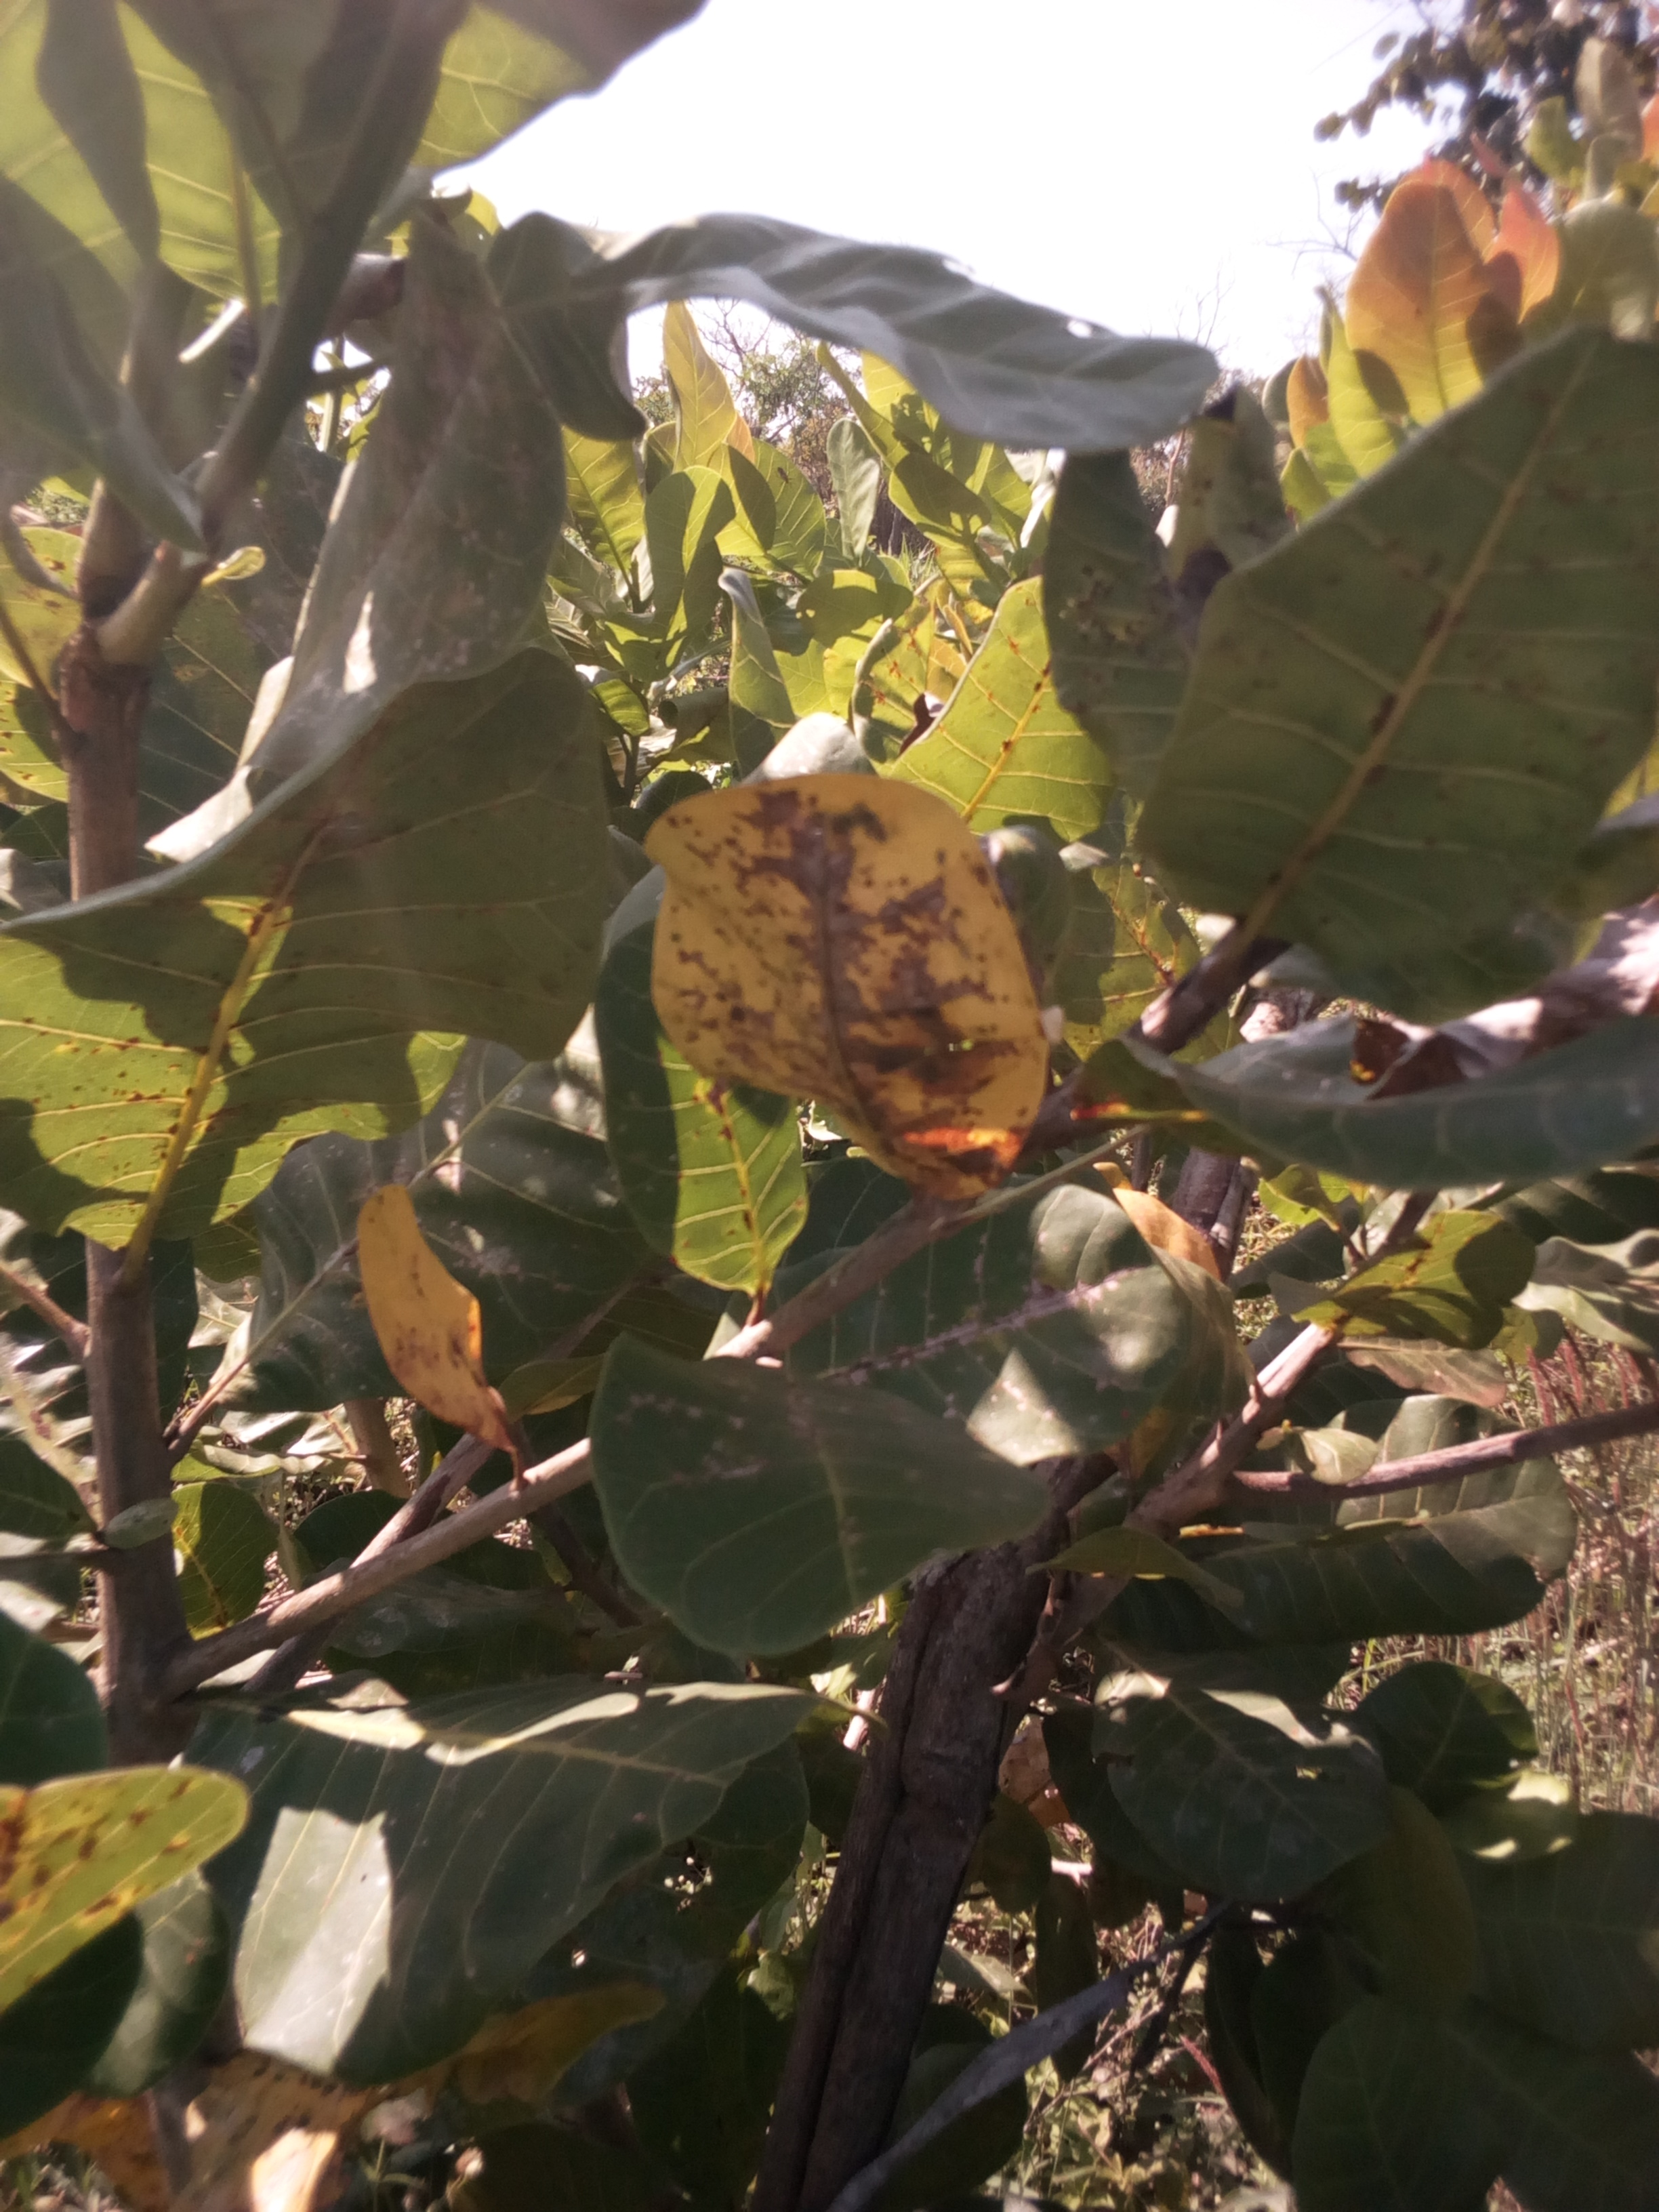Bactériose: (650, 754, 1056, 1214), (586, 1339, 1049, 1618), (335, 1177, 538, 1472)
